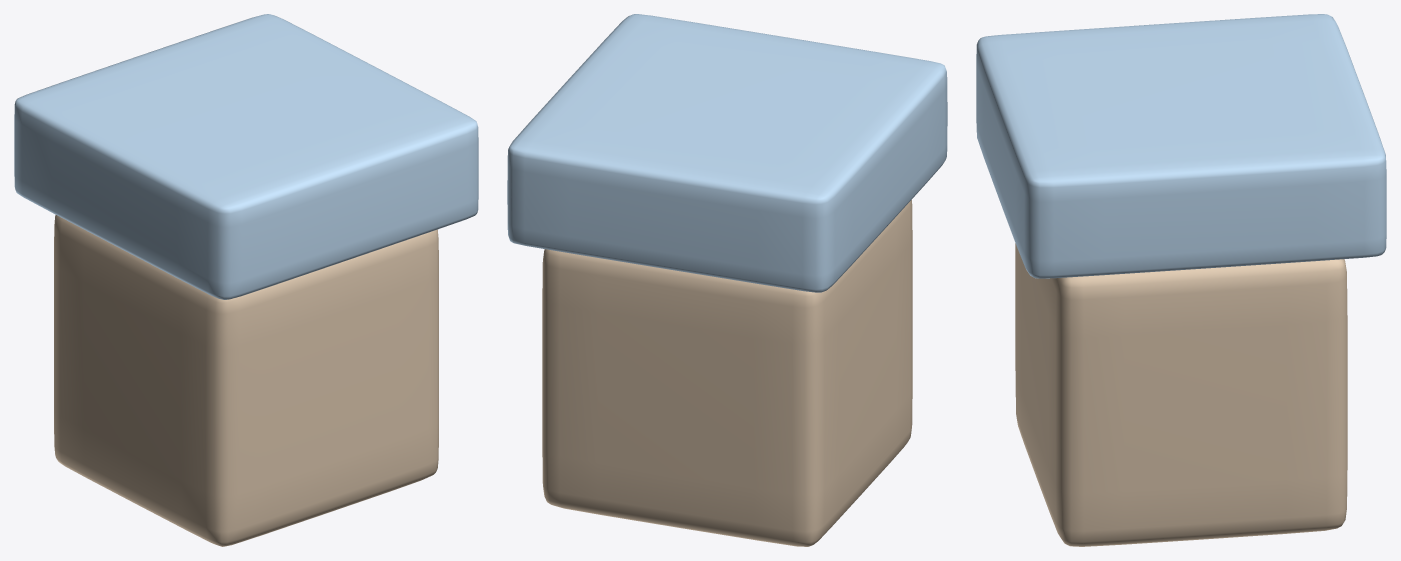
The model's file is PROP_BirdHouse_v1.glb.
3 renders of one model, left to right at view 1: azimuth 30°, elevation 25°; view 2: azimuth 150°, elevation 25°; view 3: azimuth 270°, elevation 25°, orthographic. The views are drawn at different scales.
Parts seen in each view (by area): view 1: PROP_BirdHouse_v1; view 2: PROP_BirdHouse_v1; view 3: PROP_BirdHouse_v1.
Boxes of the visible parts, x1,y1,x2,y2 form: PROP_BirdHouse_v1: (14,14,478,546); PROP_BirdHouse_v1: (507,14,947,546); PROP_BirdHouse_v1: (976,14,1386,546).
Bounding box in the file's own units: 1.33 × 1.4 × 1.35.
